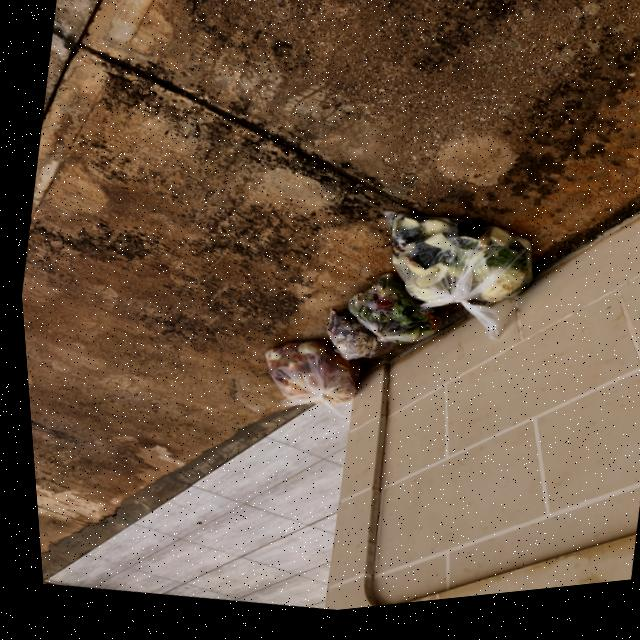Organic Waste -White Bag-: (352, 202, 546, 370), (245, 333, 361, 429), (334, 270, 449, 366), (311, 306, 394, 379)
